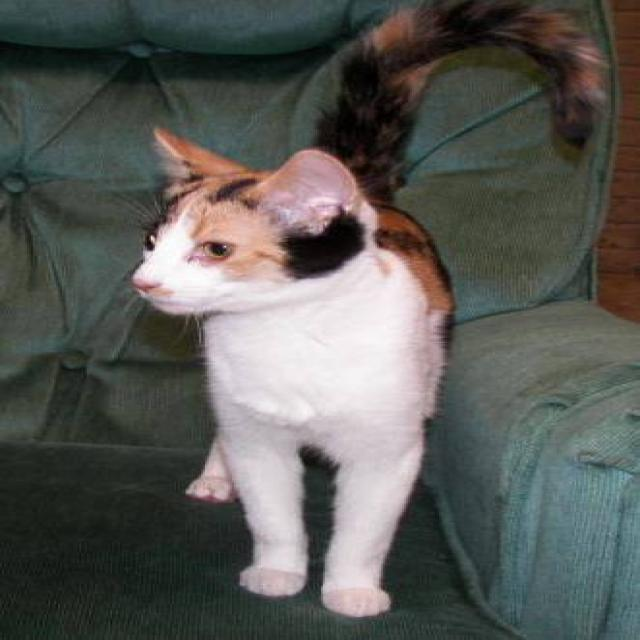cat: (124, 0, 609, 617)
